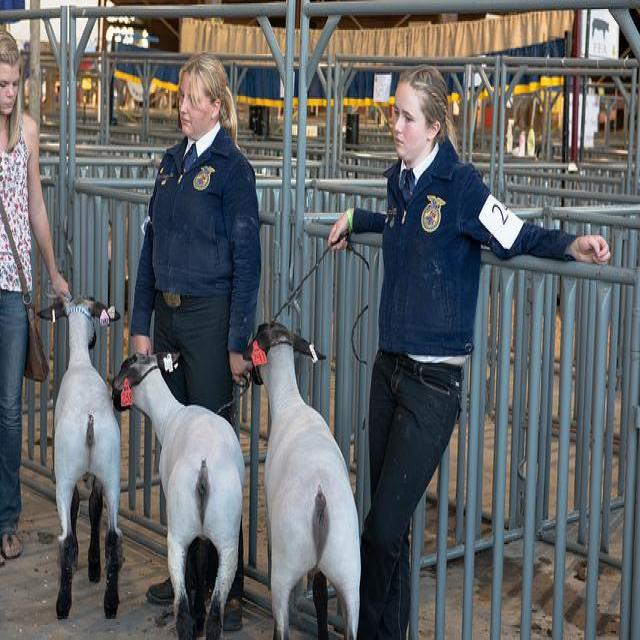Sheep: (111, 355, 246, 639), (246, 323, 359, 632), (38, 294, 122, 620)
